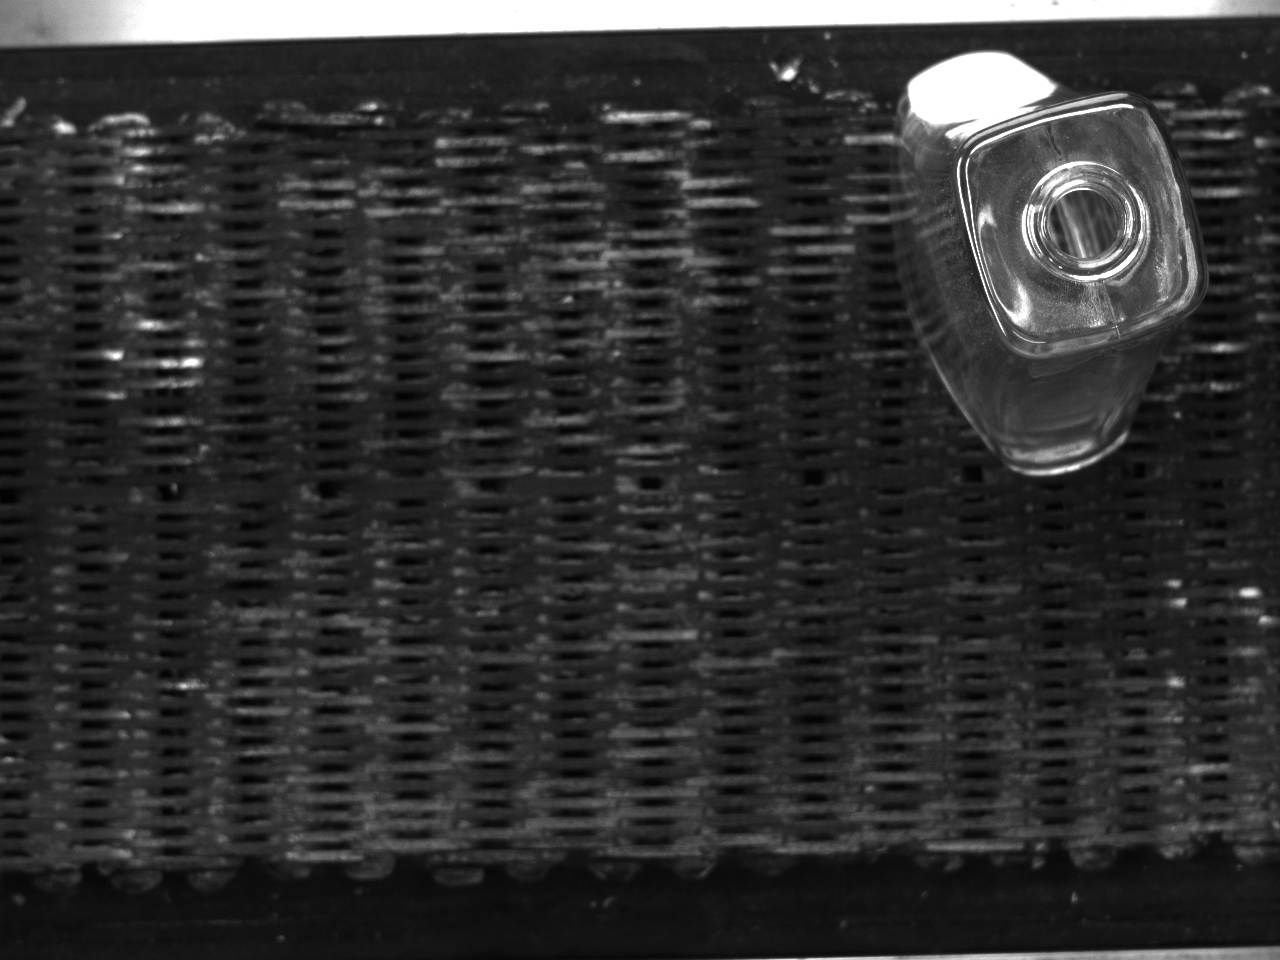bottleneck: (1025, 161, 1146, 282)
